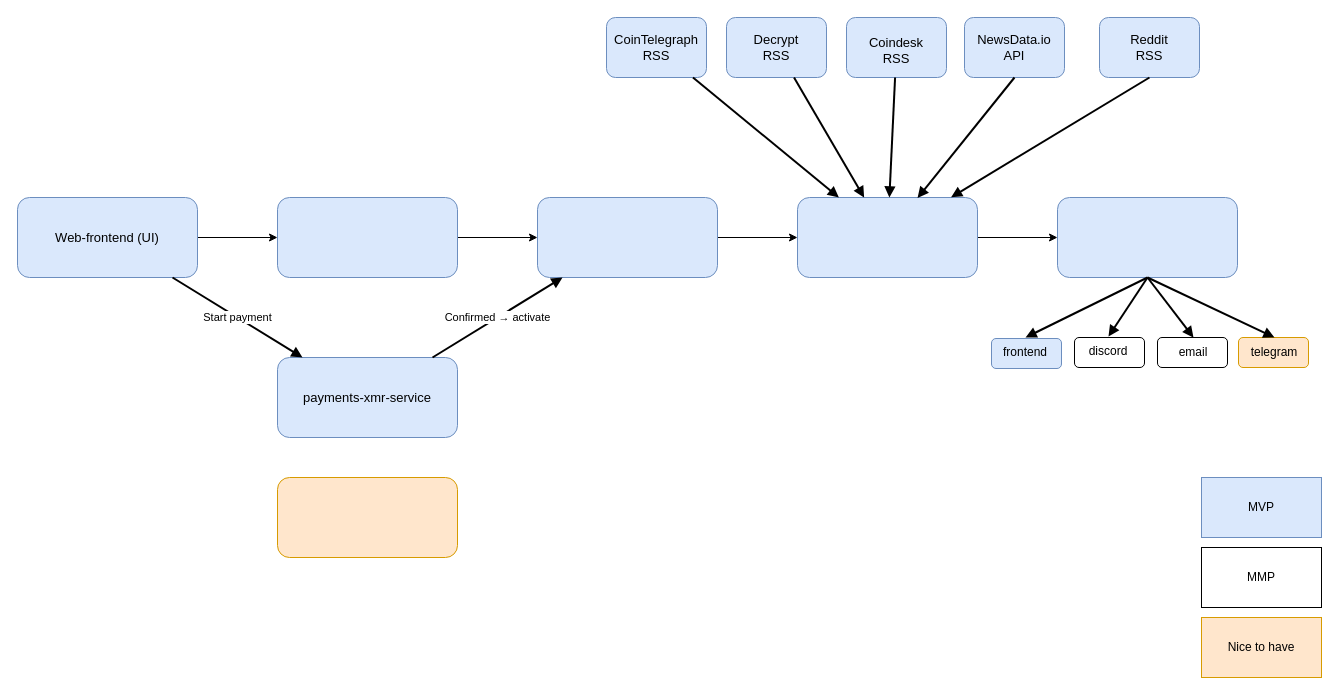
The diagram is 1339 pixels wide and 695 high, and some of its shapes have lost their labels. The shapes that lost their labels are listed below. From the top down, each one's centre as x and y in pixels, then its label:
At (x=367, y=237): "accounts-service".
At (x=627, y=237): "subscriptions-service".
At (x=887, y=237): "reporter-service".
At (x=1147, y=237): "notifications-service".
At (x=367, y=517): "payments-btc-service".
